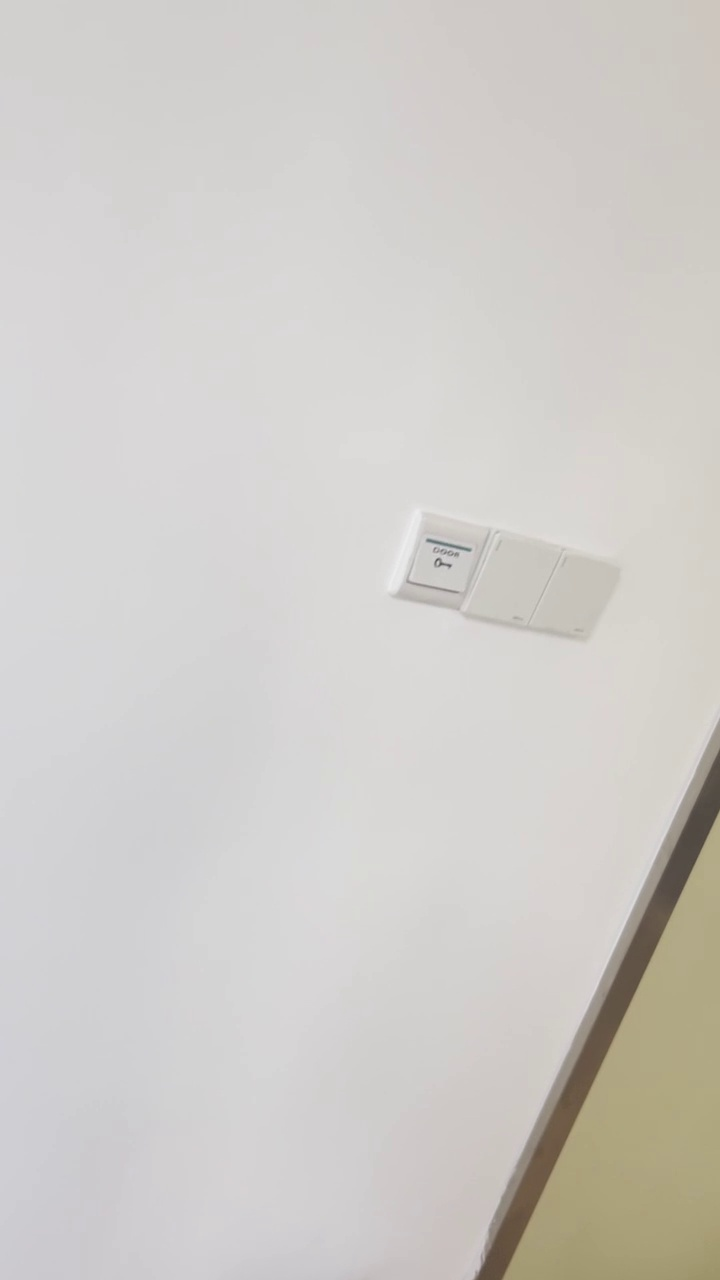button: (460, 528, 566, 632), (529, 547, 623, 646)
